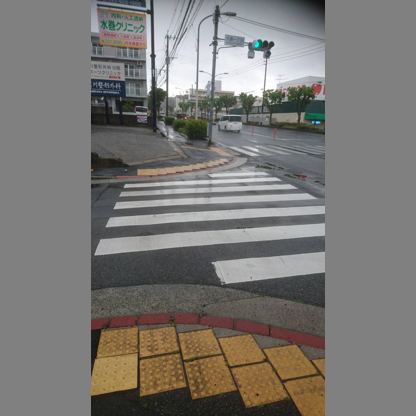brailleblock: (90, 325, 138, 389), (181, 329, 217, 397), (140, 330, 177, 396), (287, 356, 323, 416), (241, 346, 279, 402), (220, 334, 255, 390)
crosswalk: (119, 180, 285, 252), (214, 196, 325, 284)
